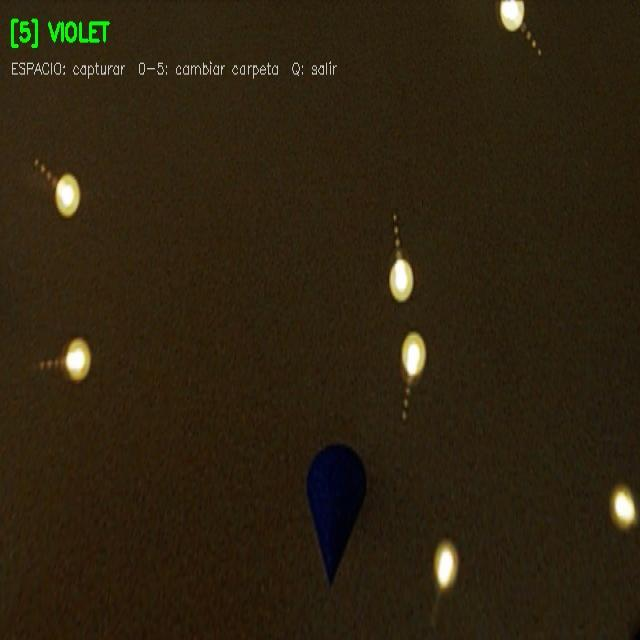violet: (307, 444, 366, 584)
